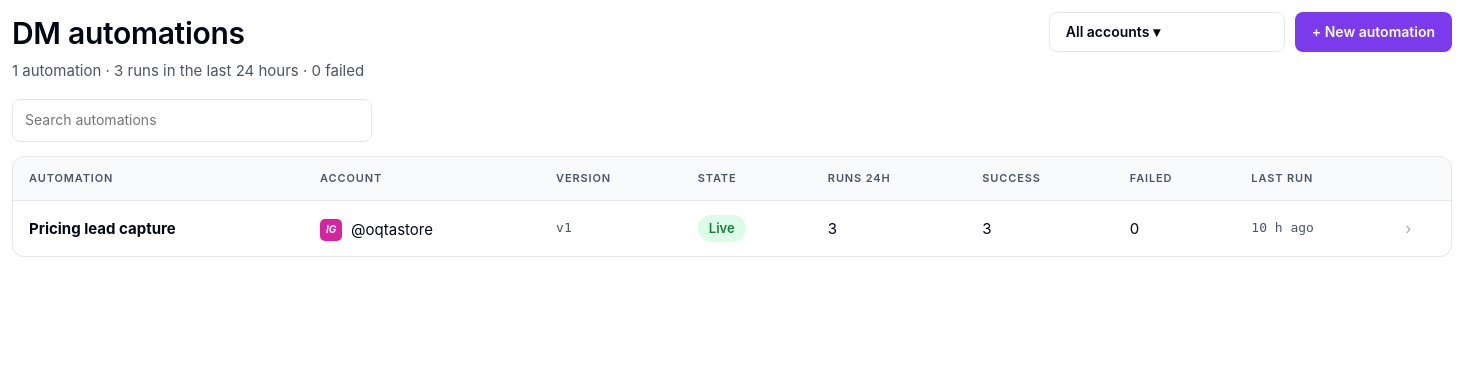
Scenario: overview page › reports a search with no results and clears it
Expected: the text "Pricing lead capture" is shown, [29, 219, 176, 238]
Select "@oqtastore · Instagram ▾" in the dropdown named "Filter by account" at (1167, 32), box [1049, 12, 1285, 52]
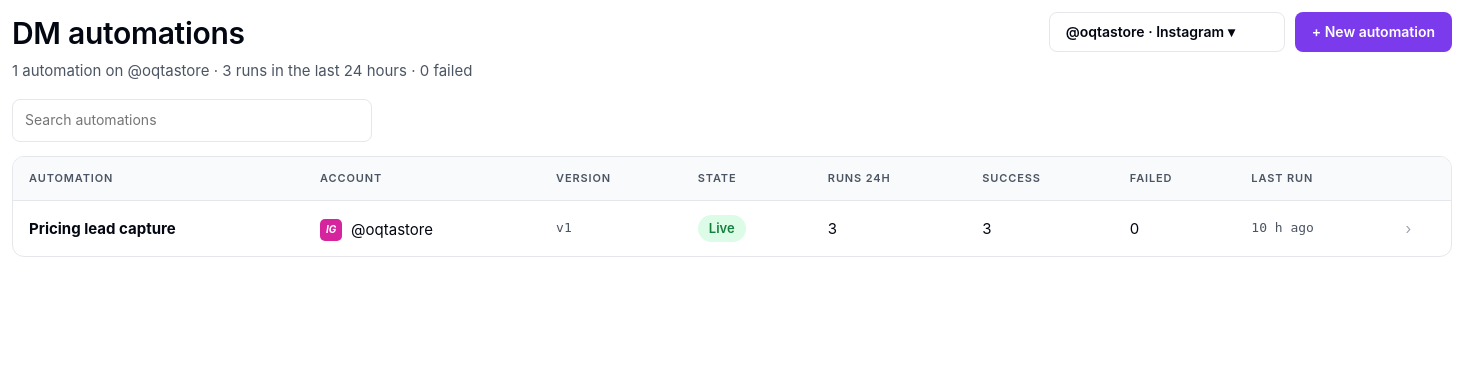
Type "webinar" into the field labelled "Search automations" at (192, 120), box [12, 99, 372, 142]
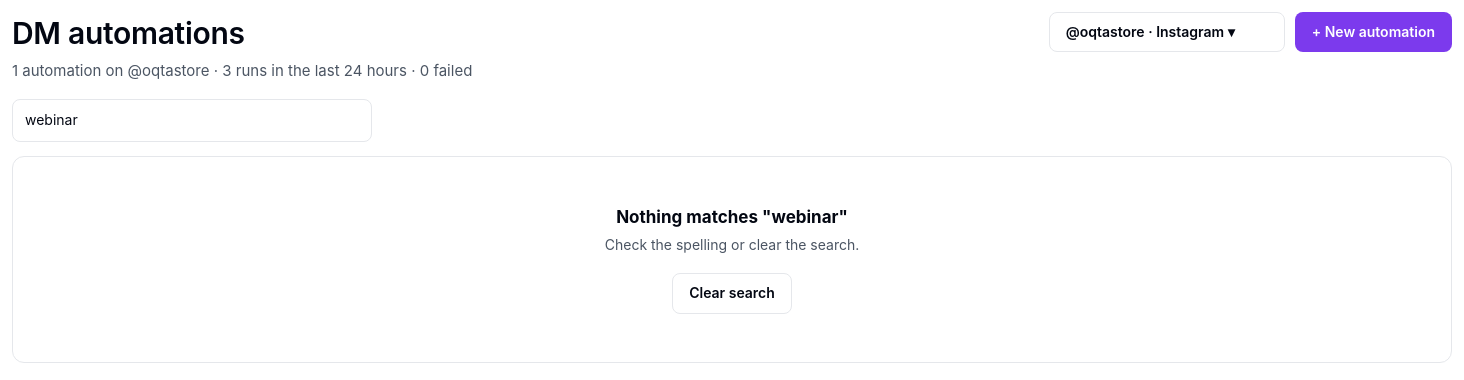
Result: the heading "Nothing matches \"webinar\"" is shown at [616, 206, 848, 226]
Click the button "Clear search" at (732, 294), box [672, 274, 792, 314]
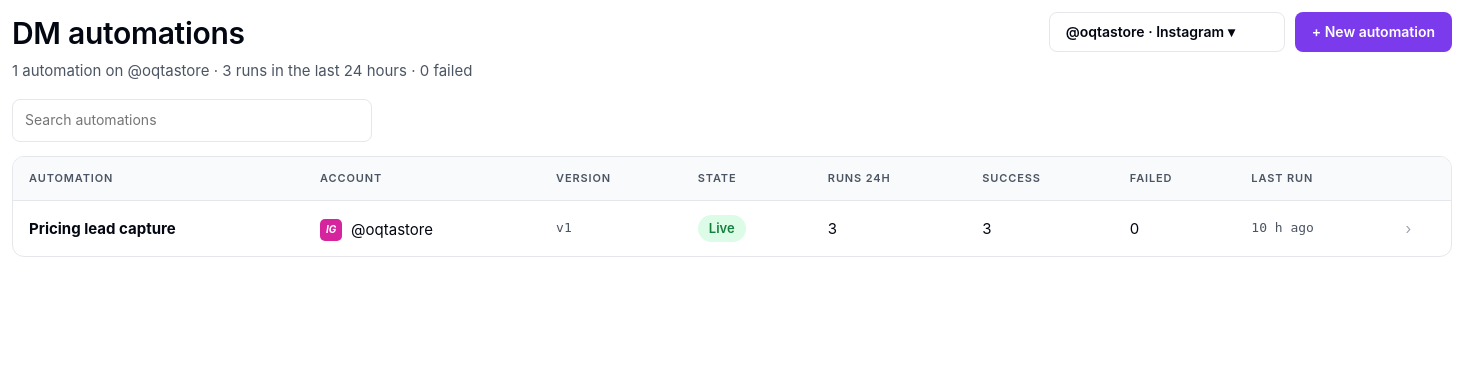
Result: the text "Pricing lead capture" is shown at [29, 219, 176, 238]
Result: the field labelled "Search automations" is empty at [12, 99, 372, 142]
